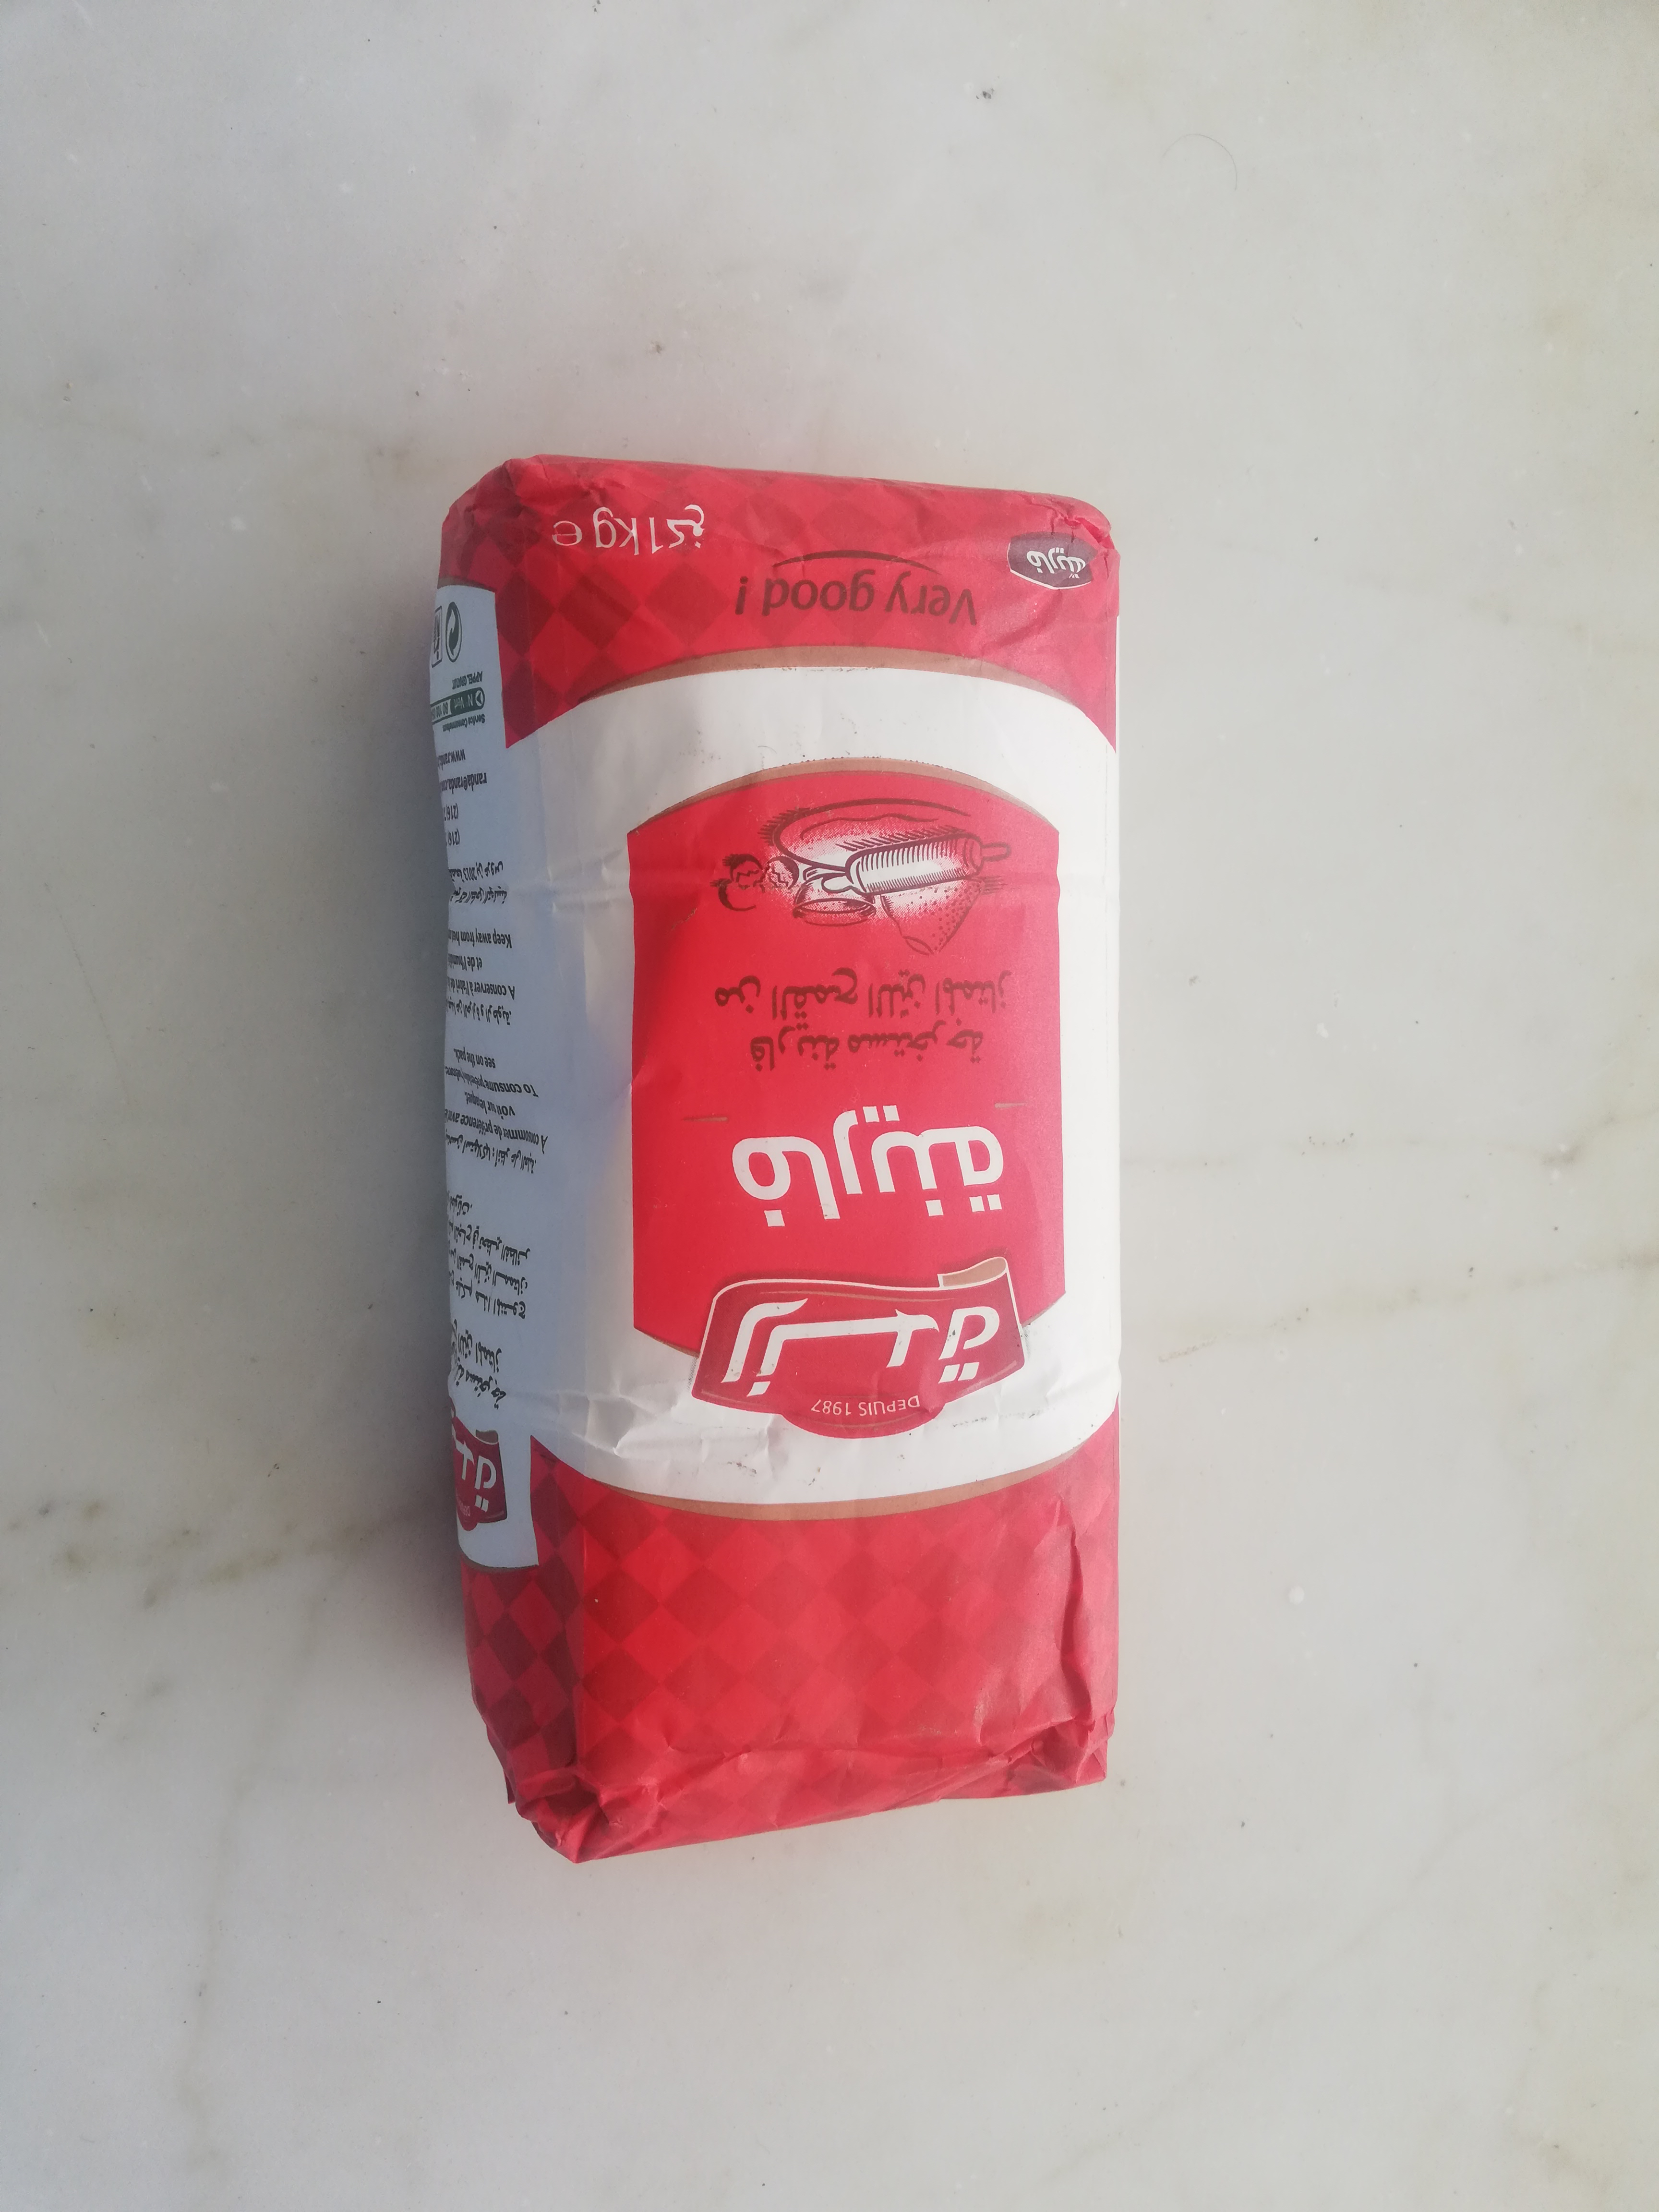Farine Randa: (429, 458, 1131, 1867)
